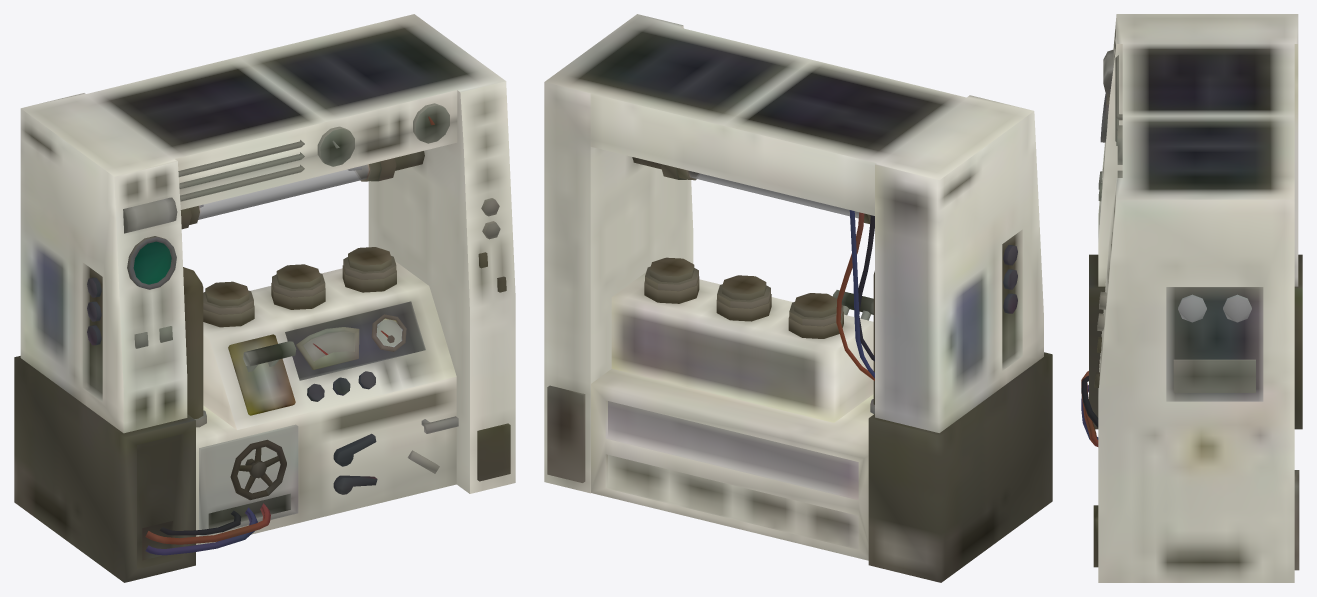
3 views of the same model, side by side, from view 1: azimuth 30°, elevation 25°; view 2: azimuth 150°, elevation 25°; view 3: azimuth 270°, elevation 25° (orthographic). The views are drawn at different scales.
Size of the model in its own units: 19.98 by 19.04 by 9.97.
3 materials, 3 textured.
